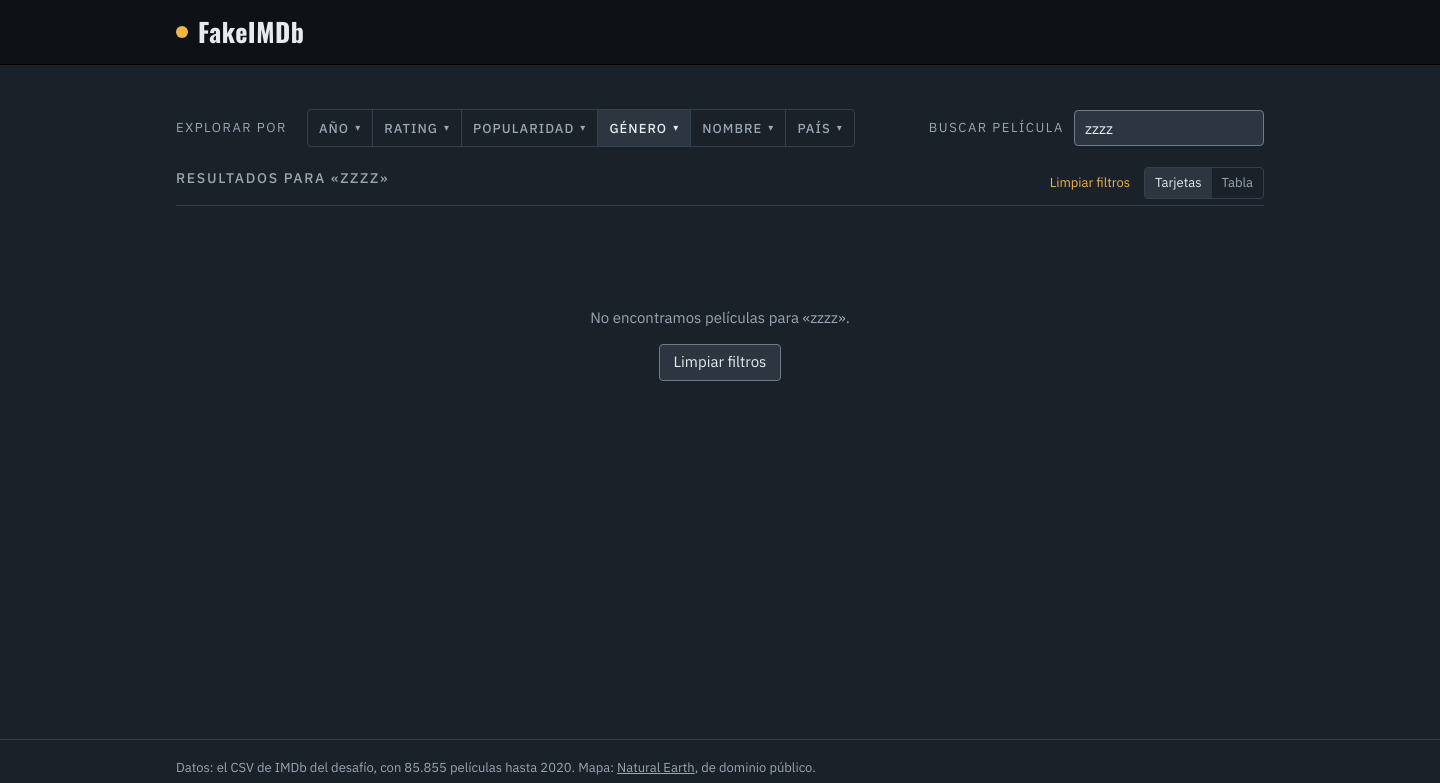
browse page › says when nothing matches and clears the filters
Click the button "Limpiar filtros" below "No encontramos películas". click: (720, 362)
box: [659,344,781,380]
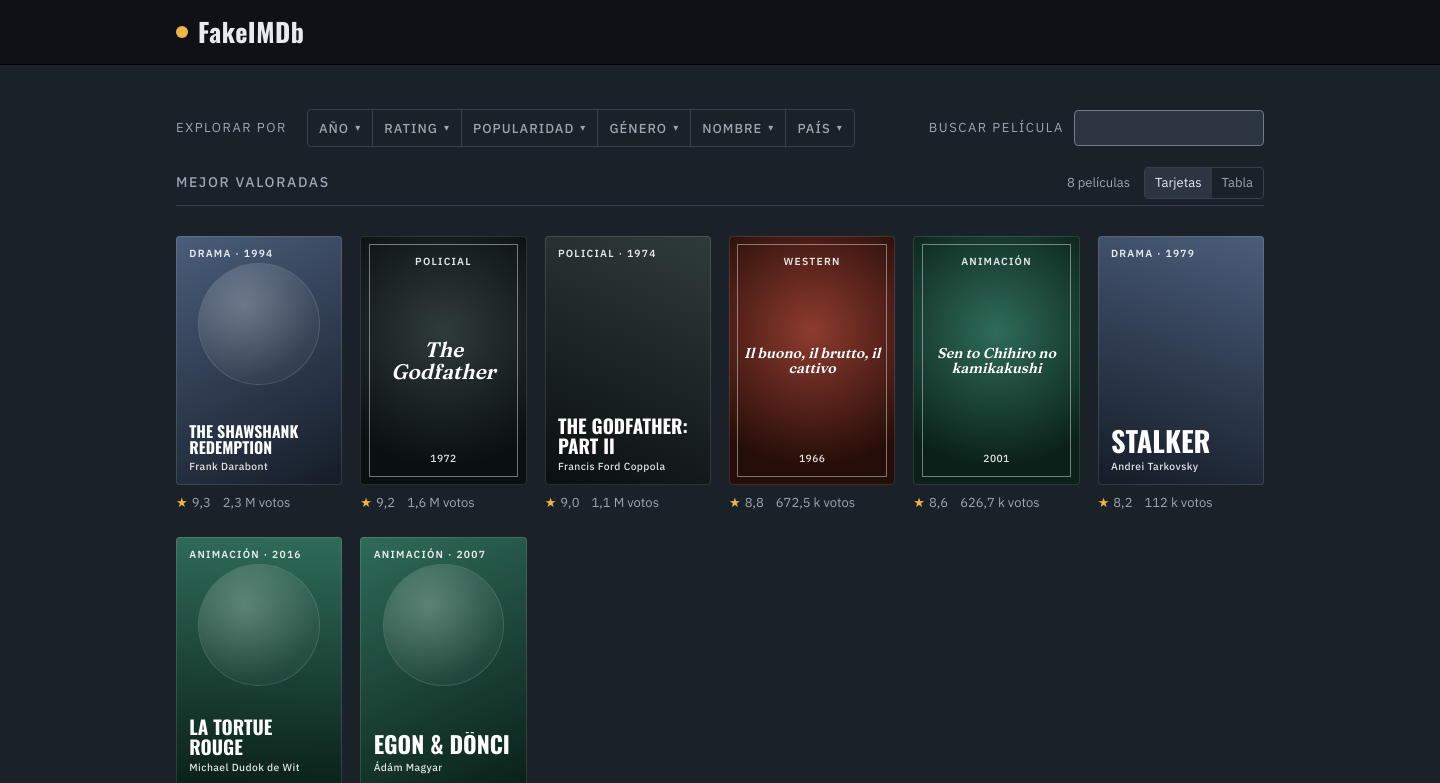
Expected: the link with aria-label "Stalker (1979)" is shown, [1098,236,1264,485]
Expected: the search field labelled "Buscar película" is empty, [1074,110,1264,146]
